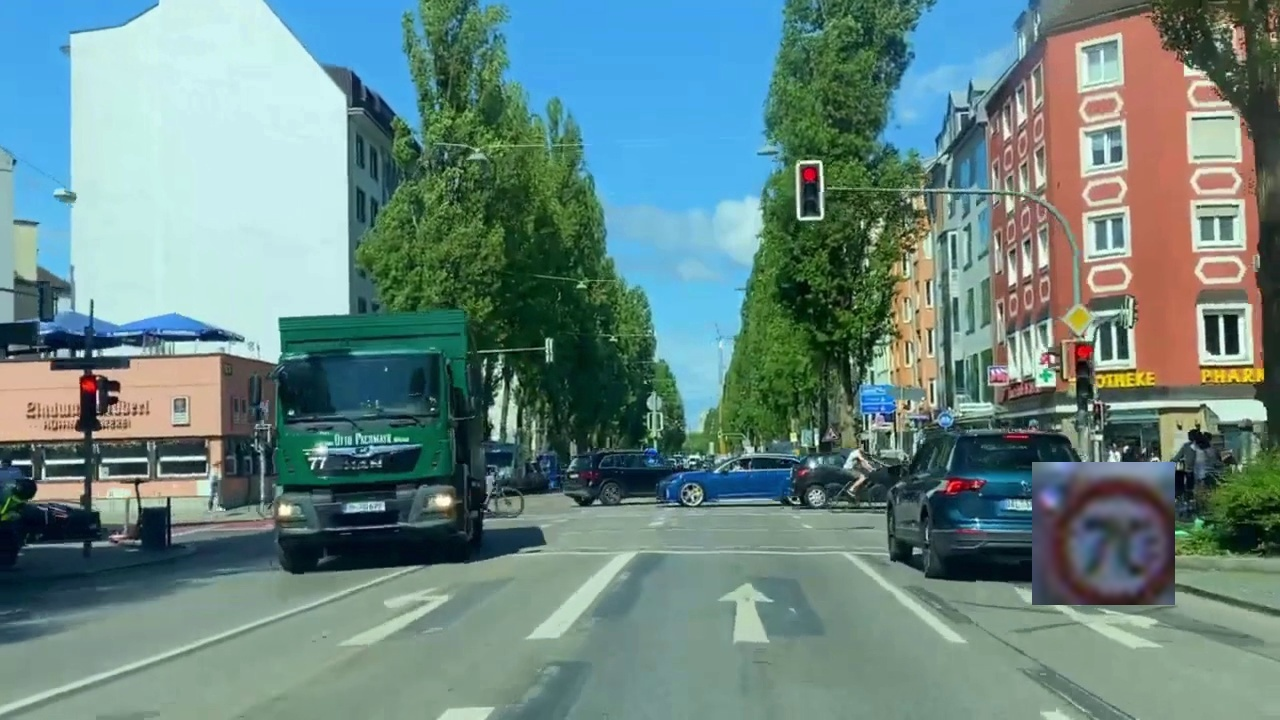Speed 70: (1032, 462, 1175, 605)
